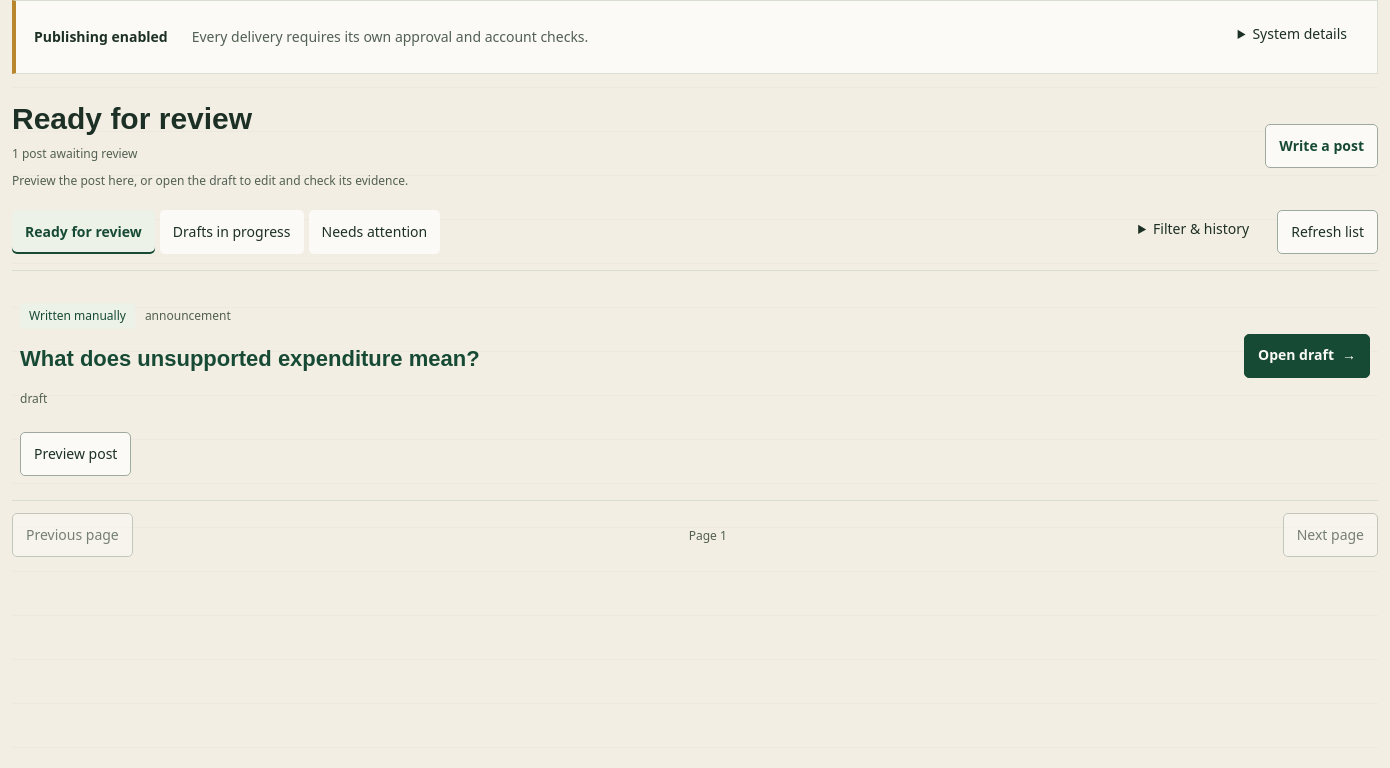
Test case: a different revision is never shown as the listed saved revision
Click the button with aria-label "Preview post:": (76, 454) [20,432,131,476]
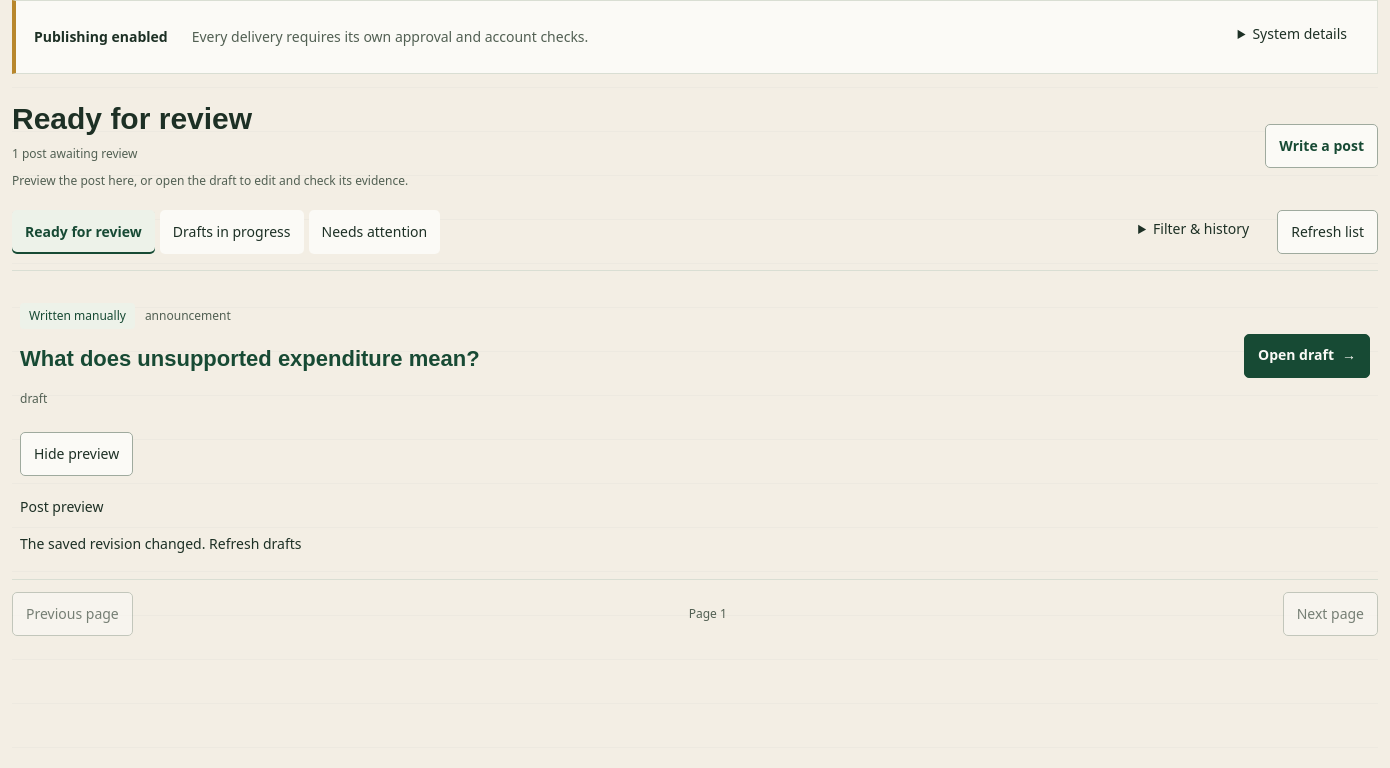
Expected: the text "The saved revision changed. Refresh drafts" is shown, [20,532,302,555]
